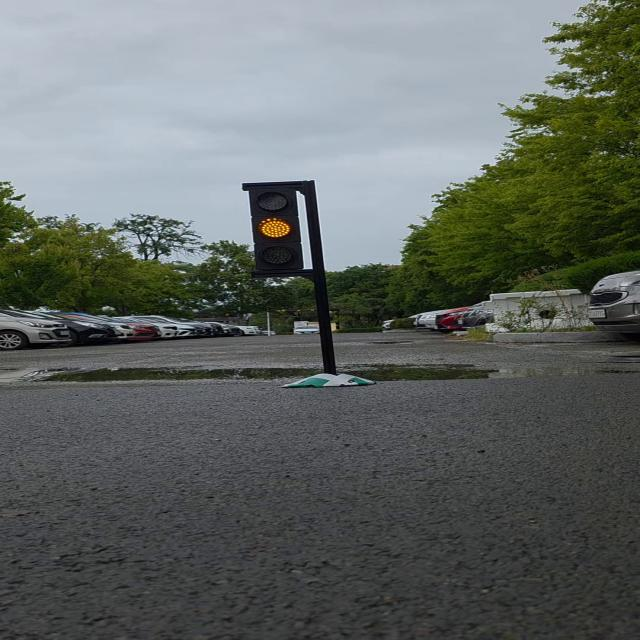yellow: (249, 184, 314, 277)
